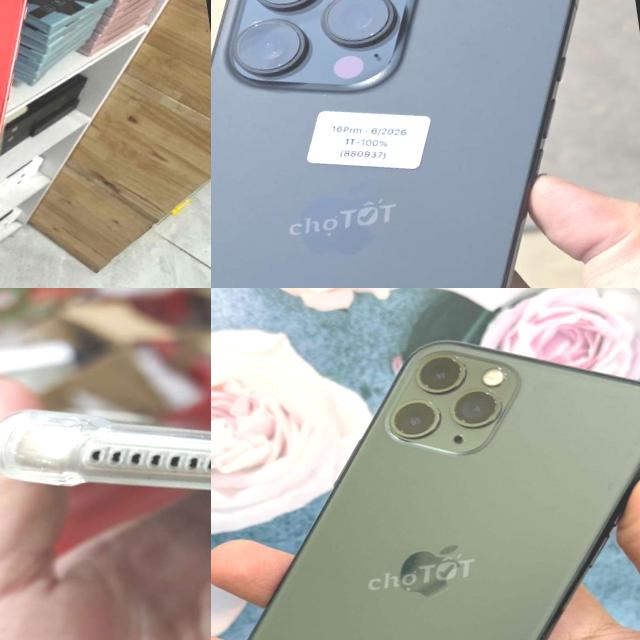scratch: (383, 342, 514, 444)
